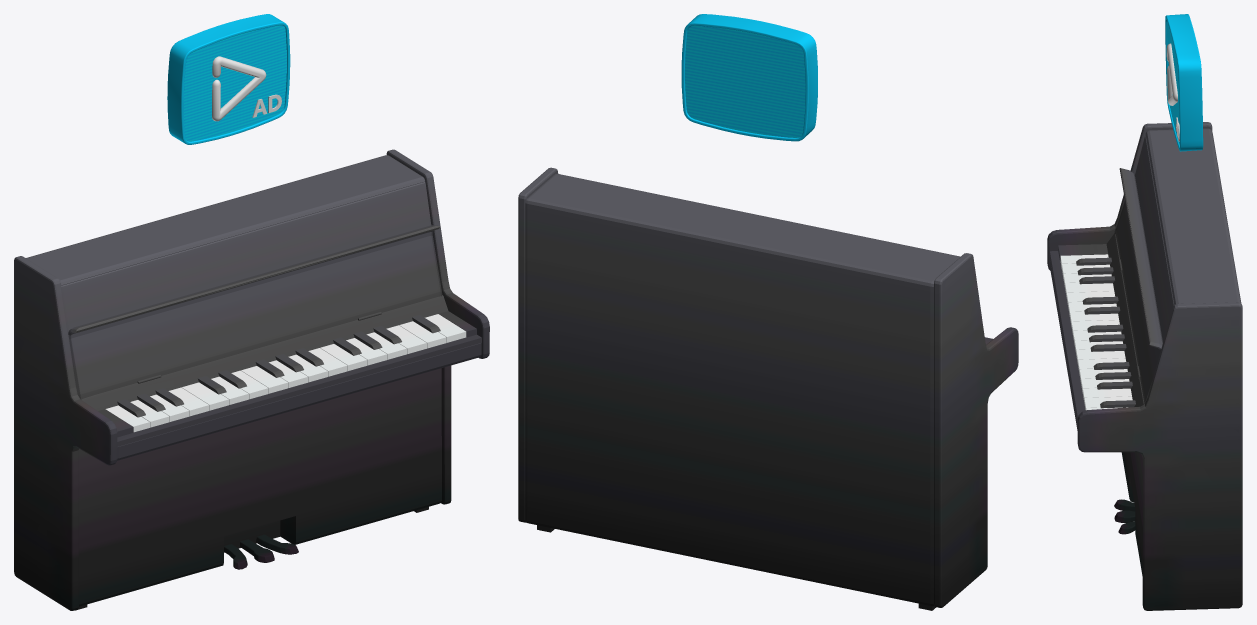
File: pianoSmall.fbx
The picture shows the model from 3 angles, left to right: view 1: azimuth 30°, elevation 25°; view 2: azimuth 150°, elevation 25°; view 3: azimuth 270°, elevation 25°; orthographic projection. The views are drawn at different scales.
Visible parts, largest first — view 1: polySurface60, BallPipe_Machine_0; view 2: polySurface60, BallPipe_Machine_0; view 3: polySurface60, BallPipe_Machine_0.
Boxes of the visible parts, bbox=[...] form: polySurface60: bbox=[14, 149, 489, 610]; BallPipe_Machine_0: bbox=[167, 14, 290, 144]; polySurface60: bbox=[518, 167, 1018, 610]; BallPipe_Machine_0: bbox=[681, 14, 817, 141]; polySurface60: bbox=[1047, 122, 1242, 610]; BallPipe_Machine_0: bbox=[1165, 14, 1203, 151].
Size of the model in its own units: 169 by 205 by 74.
